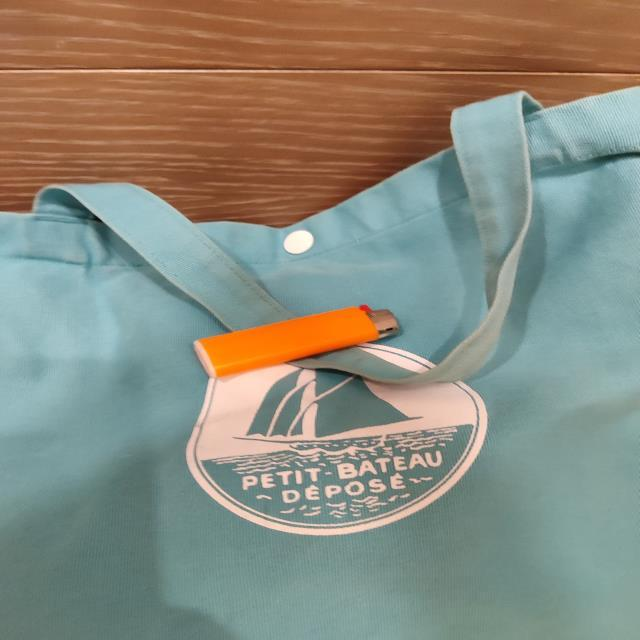lighter: (196, 305, 397, 378)
